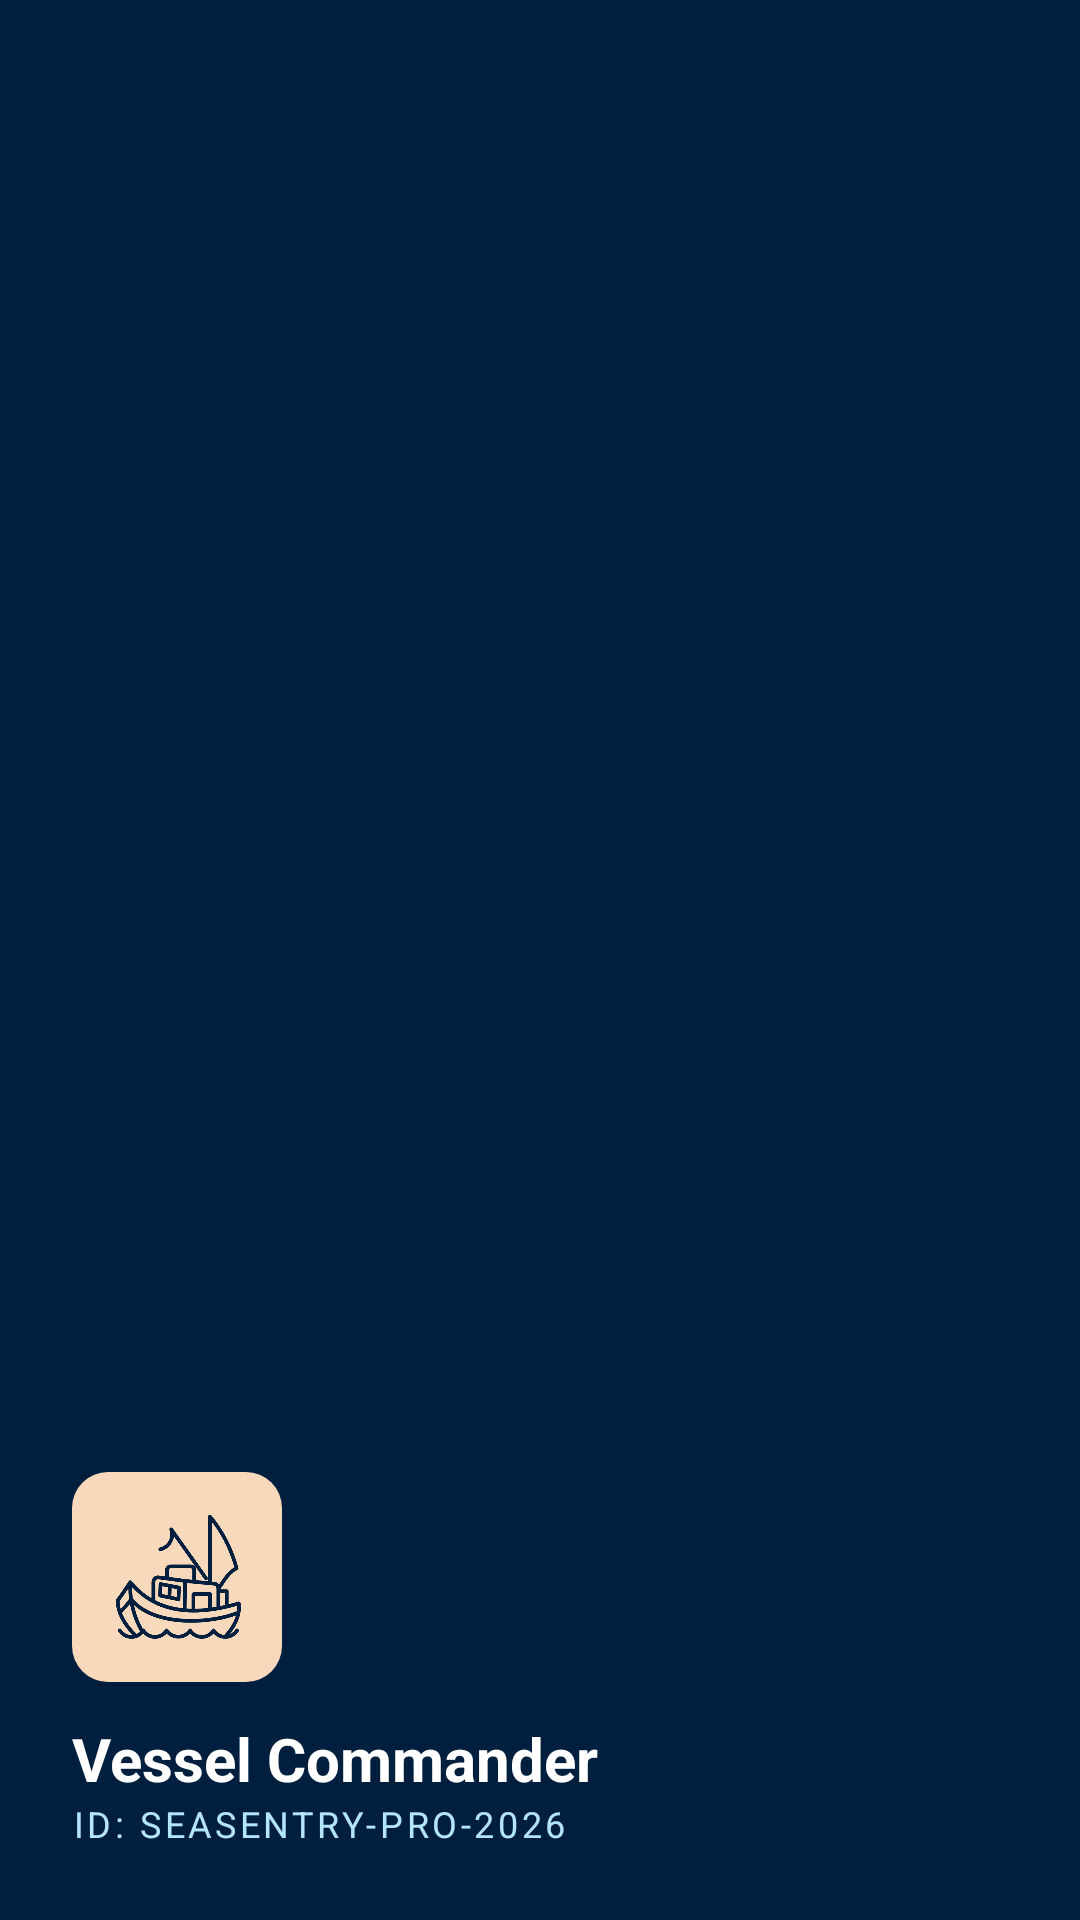

Screen size 1080x1920. Icon name, then its center in pixels as point (x, y):
fishing boat: point (177, 1577)
